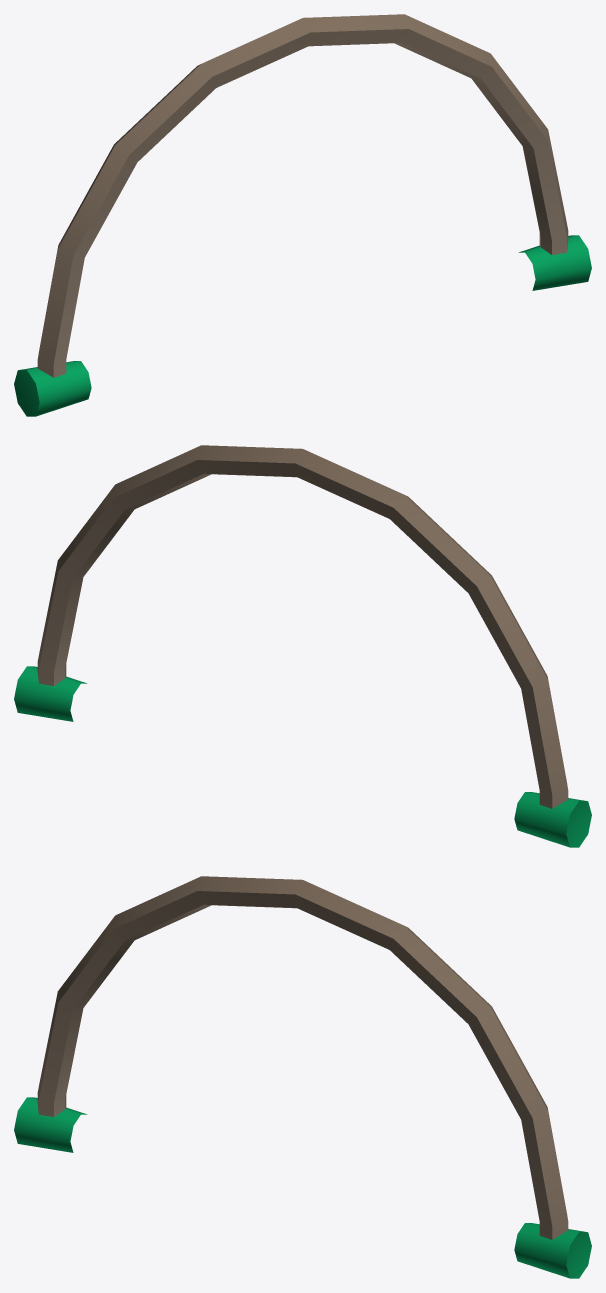
The model's file is bucket_metal_handle.glb.
The picture shows the model from 3 angles, top to bottom: view 1: azimuth 30°, elevation 25°; view 2: azimuth 150°, elevation 25°; view 3: azimuth 330°, elevation 25°; orthographic projection.
Visible parts, largest first — view 1: bucket_metal_handle; view 2: bucket_metal_handle; view 3: bucket_metal_handle.
Part boxes in pixels (left/top/right/bottom): bucket_metal_handle: left=14, top=14, right=591, bottom=416; bucket_metal_handle: left=14, top=445, right=591, bottom=847; bucket_metal_handle: left=14, top=876, right=591, bottom=1278.
Size of the model in its own units: 0.912 by 0.5232 by 0.0737.
1 material, 1 textured.
